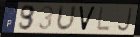3: (38, 5, 56, 32)
9: (17, 4, 37, 32)
J: (116, 7, 134, 33)
L: (95, 6, 112, 33)
U: (55, 4, 78, 33)
V: (77, 5, 97, 33)
